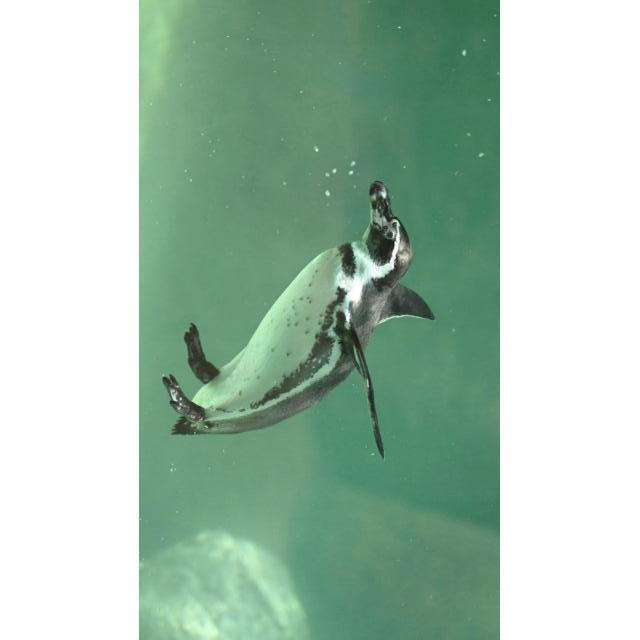penguin: (160, 179, 436, 461)
